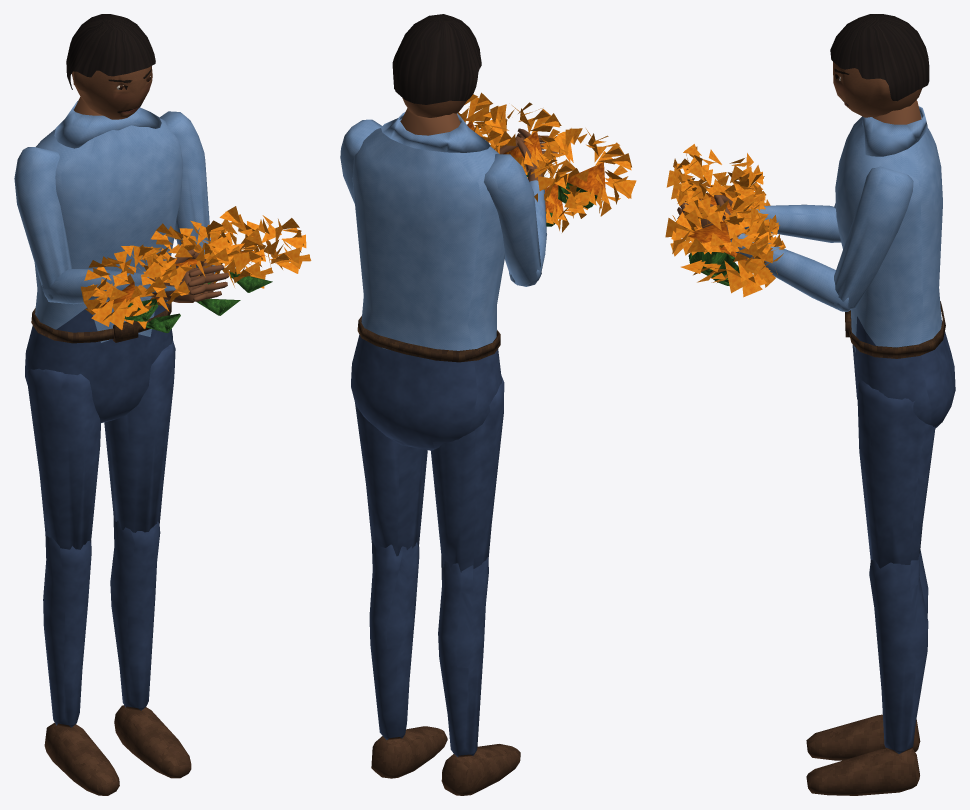
The model's file is persona_hombre_flores_lod.obj.
The picture shows the model from 3 angles, left to right: view 1: azimuth 30°, elevation 25°; view 2: azimuth 150°, elevation 25°; view 3: azimuth 270°, elevation 25°; orthographic projection.
Visible parts, largest first — view 1: persona_hombre_flores, Flor_Cempasuchil.001, Flor_Cempasuchil.003, Flor_Cempasuchil.002, Flor_Cempasuchil.005, Flor_Cempasuchil.004; view 2: persona_hombre_flores, Flor_Cempasuchil.001, Flor_Cempasuchil.002, Flor_Cempasuchil.004, Flor_Cempasuchil.003; view 3: persona_hombre_flores, Flor_Cempasuchil.003, Flor_Cempasuchil.002, Flor_Cempasuchil.005, Flor_Cempasuchil.001.
Boxes of the visible parts, x1=… form: persona_hombre_flores: x1=14, y1=14, x2=228, y2=795; Flor_Cempasuchil.001: x1=81, y1=244, x2=177, y2=329; Flor_Cempasuchil.003: x1=204, y1=206, x2=311, y2=292; Flor_Cempasuchil.002: x1=143, y1=220, x2=240, y2=289; Flor_Cempasuchil.005: x1=168, y1=235, x2=273, y2=315; Flor_Cempasuchil.004: x1=109, y1=257, x2=189, y2=332; persona_hombre_flores: x1=340, y1=14, x2=557, y2=795; Flor_Cempasuchil.001: x1=530, y1=128, x2=636, y2=218; Flor_Cempasuchil.002: x1=475, y1=102, x2=568, y2=176; Flor_Cempasuchil.004: x1=514, y1=156, x2=590, y2=232; Flor_Cempasuchil.003: x1=457, y1=92, x2=508, y2=138; persona_hombre_flores: x1=677, y1=14, x2=955, y2=795; Flor_Cempasuchil.003: x1=665, y1=196, x2=772, y2=293; Flor_Cempasuchil.002: x1=671, y1=160, x2=767, y2=238; Flor_Cempasuchil.005: x1=685, y1=204, x2=785, y2=297; Flor_Cempasuchil.001: x1=666, y1=144, x2=766, y2=205.
Size of the model in its own units: 0.5246 by 1.74 by 0.6026.
15 materials, 15 textured.
